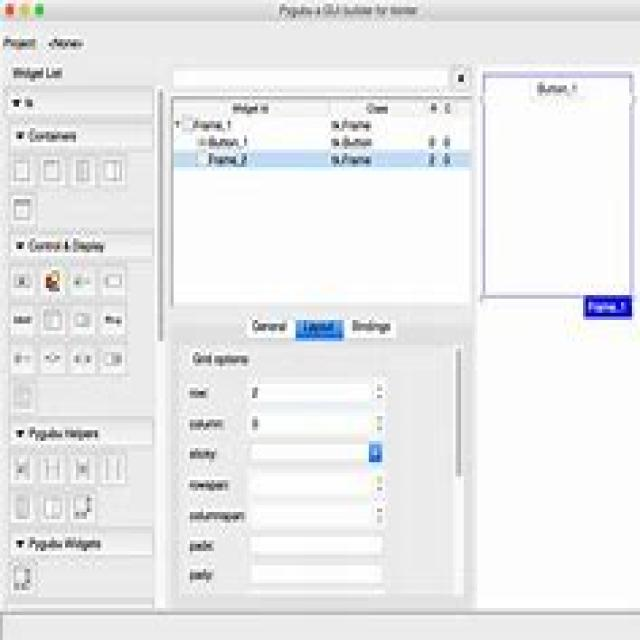button: (227, 96, 332, 119), (331, 96, 425, 118), (583, 295, 633, 320), (453, 64, 472, 92), (426, 97, 440, 119), (13, 0, 30, 18), (30, 0, 46, 18), (442, 99, 454, 117), (1, 4, 15, 16)
dropdownMenu: (175, 113, 470, 300), (1, 232, 148, 412), (6, 123, 148, 230), (6, 419, 149, 524), (5, 526, 148, 600), (4, 86, 149, 121), (248, 442, 386, 466)
input: (171, 65, 451, 91), (248, 529, 386, 559), (248, 558, 386, 586)
label: (272, 0, 421, 18), (9, 58, 67, 82), (45, 32, 88, 56), (0, 32, 40, 53)
menuItem: (193, 149, 455, 169), (192, 133, 453, 148), (96, 154, 129, 190), (94, 262, 125, 298), (98, 452, 128, 488), (38, 485, 69, 519), (9, 300, 39, 334), (10, 558, 38, 594), (9, 487, 36, 524), (100, 303, 126, 341), (11, 372, 39, 407), (39, 265, 68, 297), (10, 450, 35, 487), (70, 155, 98, 188), (98, 339, 125, 373), (65, 306, 95, 336), (9, 264, 37, 296), (37, 152, 64, 184), (12, 190, 38, 223), (69, 266, 95, 298), (38, 303, 64, 334), (66, 345, 95, 372), (67, 453, 92, 484), (10, 344, 36, 372), (40, 452, 63, 482), (39, 346, 64, 373), (71, 488, 94, 517), (13, 155, 31, 183)
slider: (152, 82, 167, 614), (450, 340, 466, 602)
tabControl: (242, 310, 405, 348)
upDown: (245, 497, 387, 533), (246, 408, 386, 441), (247, 377, 388, 406), (246, 470, 387, 498)
